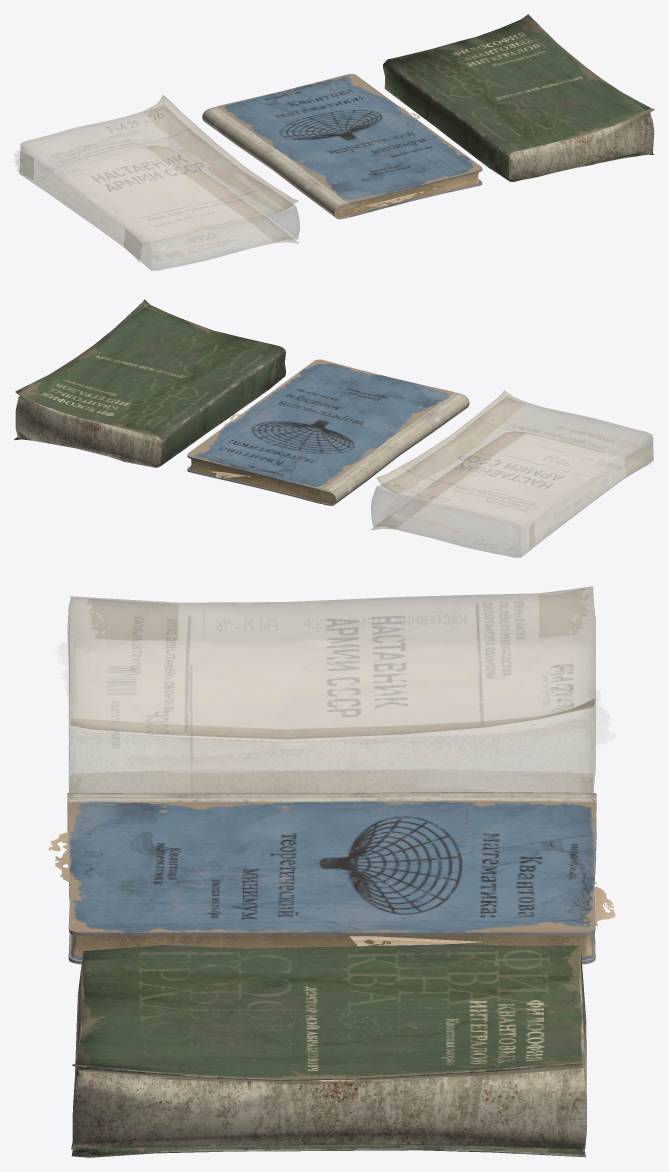
The model's file is 无标题.glb.
The picture shows the model from 3 angles, top to bottom: view 1: azimuth 30°, elevation 25°; view 2: azimuth 150°, elevation 25°; view 3: azimuth 270°, elevation 25°; orthographic projection. The views are drawn at different scales.
Visible parts, largest first — view 1: Army_Manual, Physics_Book, Maths_Book_LP; view 2: Army_Manual, Physics_Book, Maths_Book_LP; view 3: Physics_Book, Army_Manual, Maths_Book_LP.
Part boxes in pixels (x1,y1,x2,y2): Army_Manual: [15, 95, 299, 270]; Physics_Book: [383, 14, 654, 181]; Maths_Book_LP: [202, 74, 482, 219]; Army_Manual: [371, 390, 653, 557]; Physics_Book: [14, 299, 285, 467]; Maths_Book_LP: [187, 359, 469, 505]; Physics_Book: [71, 944, 586, 1157]; Army_Manual: [55, 586, 615, 793]; Maths_Book_LP: [48, 792, 616, 964].
Bounding box in the file's own units: 6.81 × 0.6845 × 3.35.
3 materials, 3 textured.
